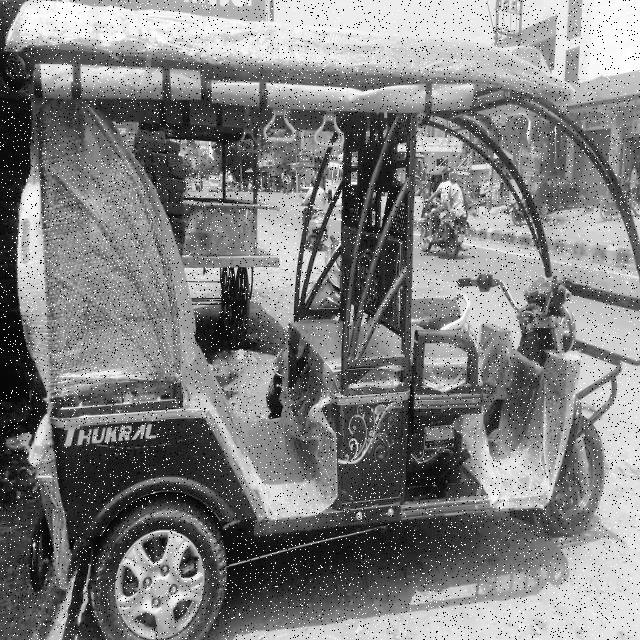Toto: (13, 6, 639, 640)
